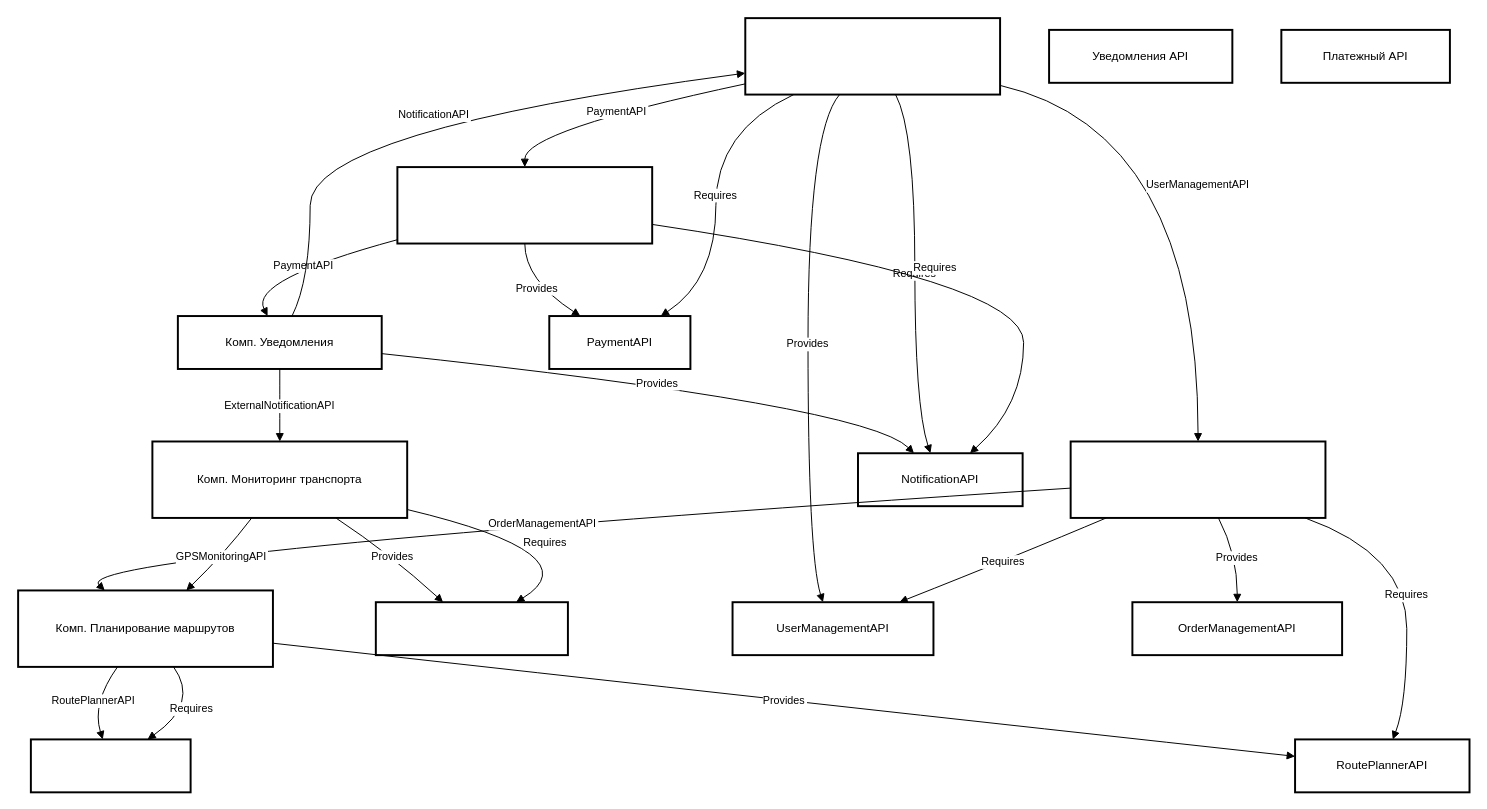
Some shapes in this 1487 by 809 pixel diagram are drawn without their labels. The shapes that lost their labels are listed below. From the top down, each one's centre as x and y in pixels, then its label:
the point at 872,56: Комп. Управление пользователями
the point at 524,205: Комп. Управление платежами
the point at 1197,479: Комп. Управление заказами
the point at 471,628: GPS Monitoring API
the point at 110,765: MapServiceAPI
